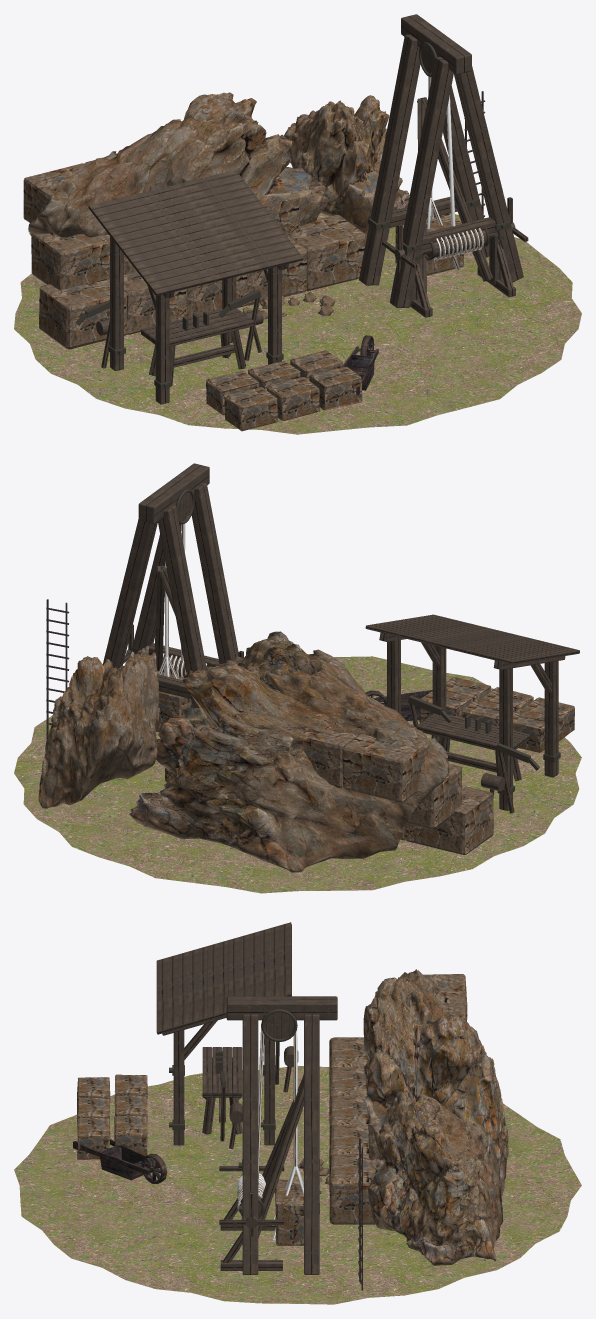
Rendered from building-quarry.glb.
3 views of the same model, one above another, from view 1: azimuth 30°, elevation 25°; view 2: azimuth 150°, elevation 25°; view 3: azimuth 270°, elevation 25° (orthographic).
Parts seen in each view (by area): view 1: StonecuttersQuarry; view 2: StonecuttersQuarry; view 3: StonecuttersQuarry.
Part boxes in pixels (box(x1,y1,x2,y2)): StonecuttersQuarry: box(14, 14, 581, 434); StonecuttersQuarry: box(14, 463, 581, 893); StonecuttersQuarry: box(14, 922, 581, 1304).
Size of the model in its own units: 9.1 by 4.43 by 9.15.
7 materials, 6 textured.
